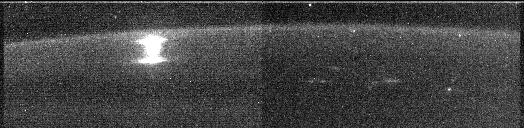positive: (134, 35, 170, 57)
